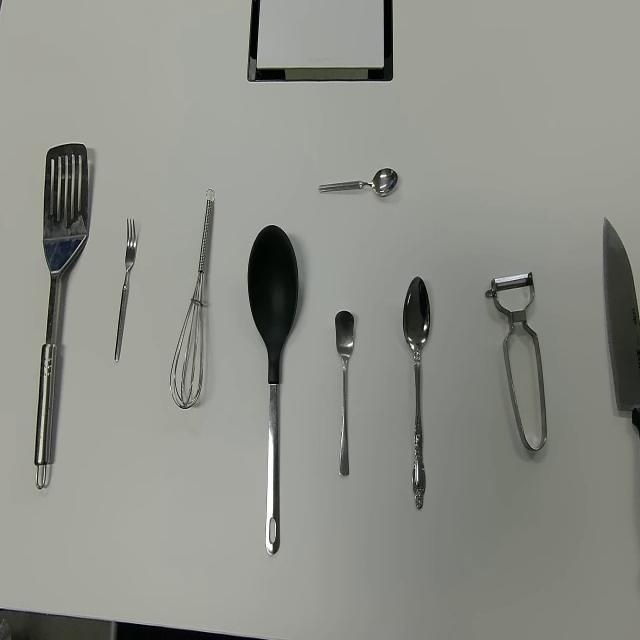Desert-Spoon: (402, 274, 431, 510)
Dinner-Fork: (114, 215, 137, 364)
Kitchen-Knife: (602, 215, 640, 438)
Peeler: (484, 269, 547, 453)
Serving-Spoon: (34, 140, 89, 491), (246, 222, 299, 556)
Tea-Spoon: (334, 309, 355, 477), (318, 165, 399, 198)
Whisk: (169, 187, 215, 410)
